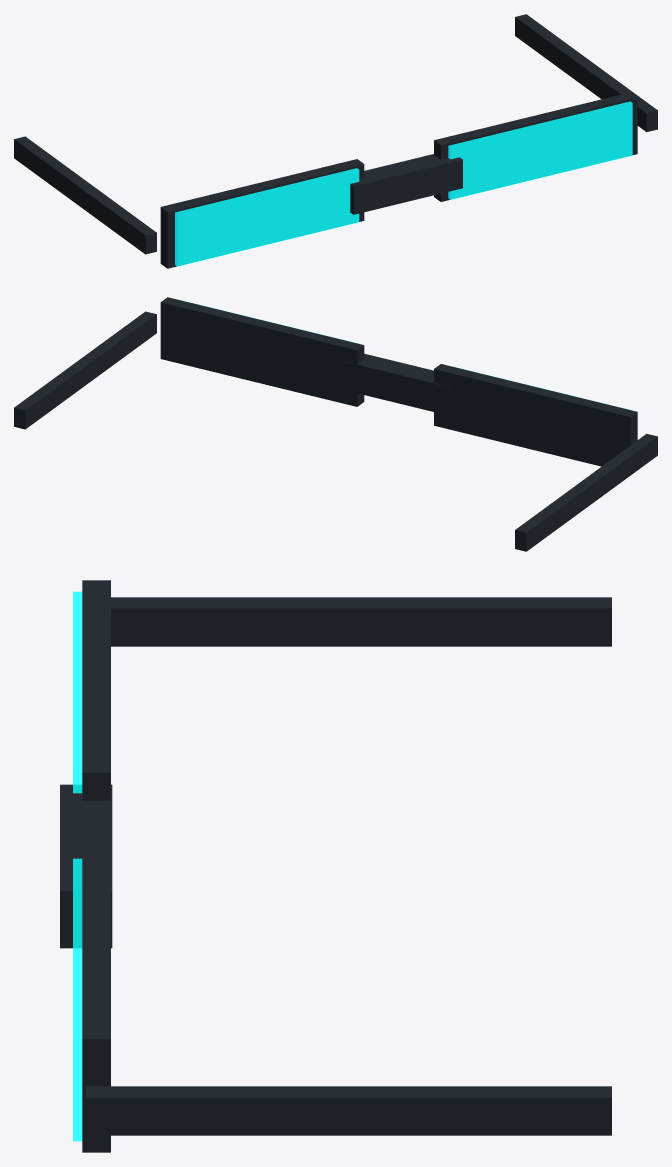
File: cyberpunk.glb
3 views of the same model, one above another, from view 1: azimuth 30°, elevation 25°; view 2: azimuth 150°, elevation 25°; view 3: azimuth 270°, elevation 25° (orthographic). The views are drawn at different scales.
Visible parts, largest first — view 1: cyberpunk; view 2: cyberpunk; view 3: cyberpunk.
Boxes of the visible parts, x1,y1,x2,y2 form: cyberpunk: (14, 14, 657, 268); cyberpunk: (14, 297, 657, 551); cyberpunk: (60, 580, 611, 1152).
Size of the model in its own units: 0.225 by 0.0238 by 0.105.
